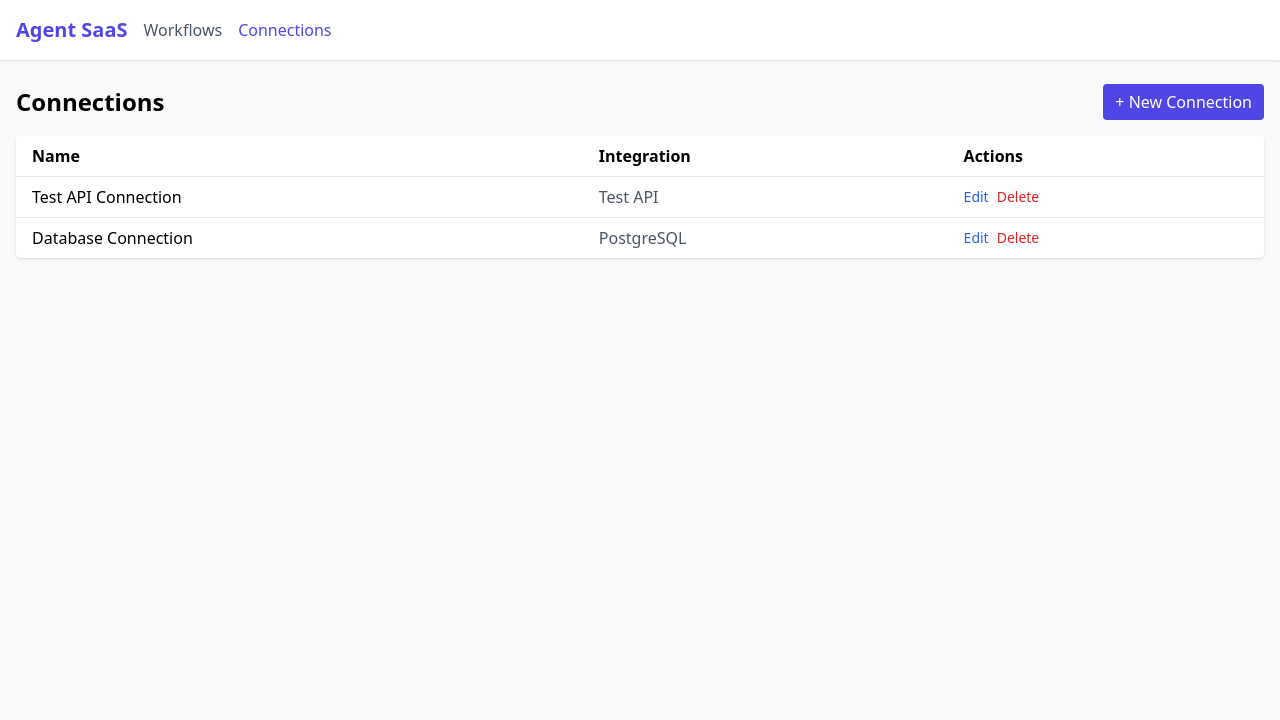
Scenario: Connections Page - Realistic Tests › should open create connection modal
Click the button "+ New Connection" at [1184, 102], box [1103, 84, 1264, 120]
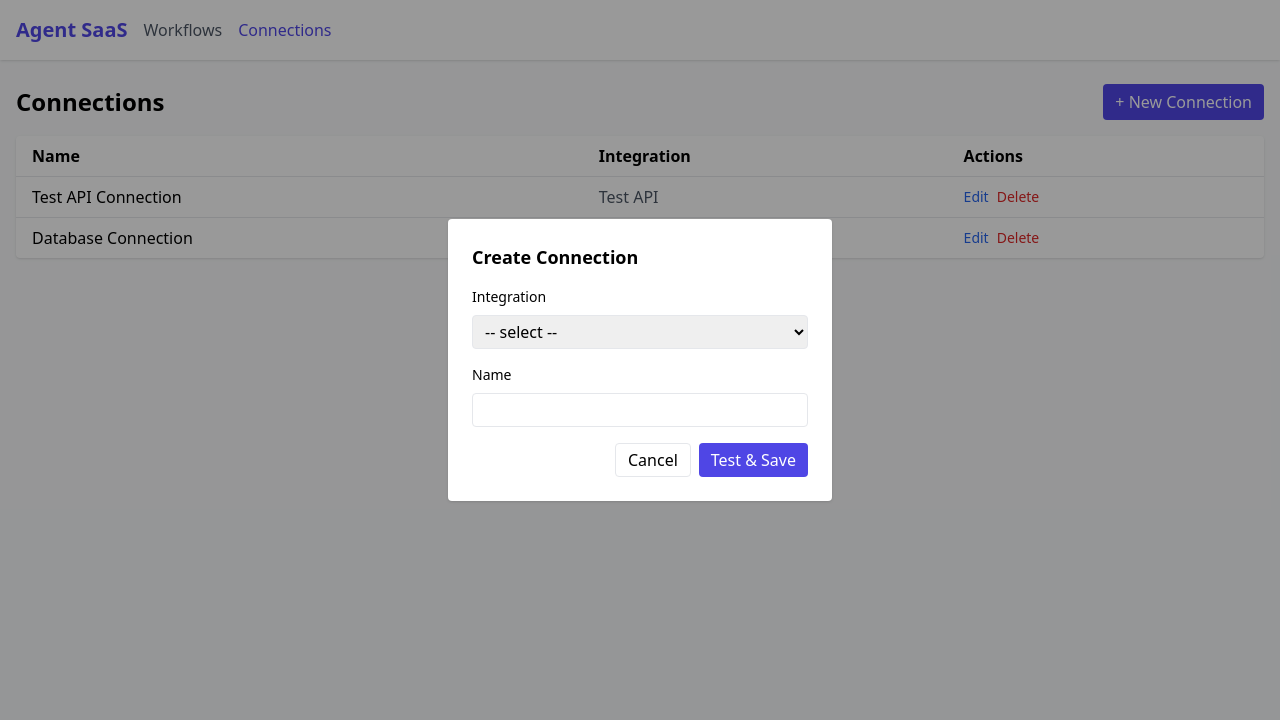
Check: the element with class "inset-0" is shown
Check: the heading "Create Connection" is shown, box [472, 245, 638, 269]
Check: the dropdown is shown, box [472, 315, 808, 349]
